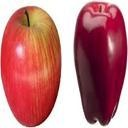apple: (1, 6, 63, 128)
